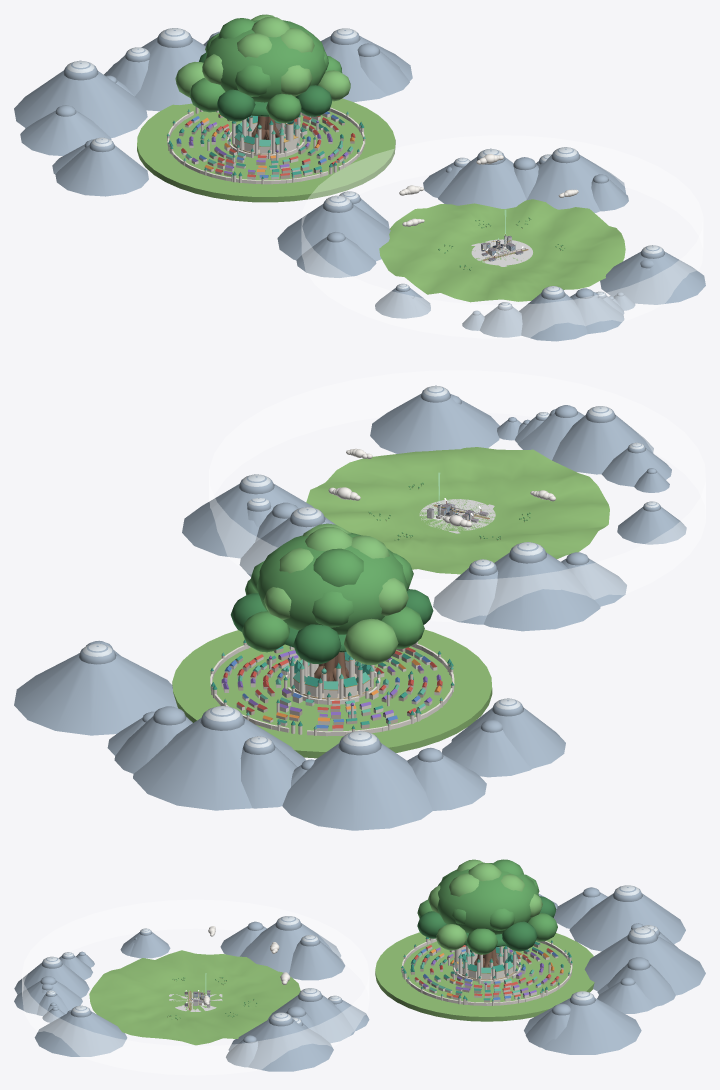
File: interlude_construction.glb
The picture shows the model from 3 angles, top to bottom: view 1: azimuth 30°, elevation 25°; view 2: azimuth 150°, elevation 25°; view 3: azimuth 270°, elevation 25°; orthographic projection. The views are drawn at different scales.
Visible parts, largest first — view 1: far_mount_far, far_haze_fine, land_grass, far_grass_far, far_eld_leaf_far, far_erk_wall_far, far_eld_leaf_l_far, far_mount_l_far, far_eld_leaf_d_far, far_erk_wall_d_far, far_erk_roof_far, COL_land_001 (+3 smaller); view 2: far_mount_far, far_haze_fine, land_grass, far_grass_far, far_eld_leaf_far, far_erk_wall_far, far_eld_leaf_l_far, far_mount_l_far, far_eld_leaf_d_far, far_erk_wall_d_far, far_erk_roof_far, COL_land_001 (+4 smaller); view 3: far_mount_far, far_haze_fine, land_grass, far_grass_far, far_eld_leaf_far, far_erk_wall_far, far_eld_leaf_l_far, far_eld_leaf_d_far, far_mount_l_far, far_erk_wall_d_far, far_erk_roof_far, far_erk_roof_l_far (+2 smaller).
Part boxes in pixels (left/top/right/bottom): far_mount_far: left=14, top=28, right=705, bottom=341; far_haze_fine: left=301, top=135, right=703, bottom=338; land_grass: left=379, top=199, right=625, bottom=302; far_grass_far: left=137, top=98, right=395, bottom=202; far_eld_leaf_far: left=189, top=18, right=342, bottom=123; far_erk_wall_far: left=167, top=107, right=365, bottom=184; far_eld_leaf_l_far: left=175, top=14, right=350, bottom=101; far_mount_l_far: left=67, top=28, right=662, bottom=307; far_eld_leaf_d_far: left=199, top=52, right=331, bottom=121; far_erk_wall_d_far: left=176, top=112, right=354, bottom=178; far_erk_roof_far: left=168, top=115, right=364, bottom=178; COL_land_001: left=471, top=239, right=532, bottom=266; far_mount_far: left=14, top=385, right=686, bottom=830; far_haze_fine: left=209, top=370, right=705, bottom=621; land_grass: left=306, top=447, right=609, bottom=574; far_grass_far: left=172, top=629, right=492, bottom=758; far_eld_leaf_far: left=242, top=532, right=424, bottom=652; far_erk_wall_far: left=210, top=641, right=454, bottom=736; far_eld_leaf_l_far: left=263, top=523, right=408, bottom=664; far_mount_l_far: left=82, top=386, right=658, bottom=747; far_eld_leaf_d_far: left=230, top=589, right=433, bottom=664; far_erk_wall_d_far: left=235, top=645, right=442, bottom=728; far_erk_roof_far: left=210, top=640, right=453, bottom=728; COL_land_001: left=419, top=499, right=495, bottom=533; far_mount_far: left=14, top=886, right=705, bottom=1071; far_haze_fine: left=22, top=900, right=369, bottom=1075; land_grass: left=89, top=950, right=300, bottom=1045; far_grass_far: left=375, top=932, right=594, bottom=1021; far_eld_leaf_far: left=417, top=859, right=557, bottom=954; far_erk_wall_far: left=401, top=938, right=572, bottom=1005; far_eld_leaf_l_far: left=428, top=859, right=542, bottom=950; far_eld_leaf_d_far: left=417, top=896, right=556, bottom=951; far_mount_l_far: left=43, top=885, right=657, bottom=1023; far_erk_wall_d_far: left=410, top=944, right=559, bottom=1002; far_erk_roof_far: left=401, top=937, right=572, bottom=1000; far_erk_roof_l_far: left=403, top=950, right=570, bottom=1001.
Size of the model in its own units: 1548 by 438 by 2471.
